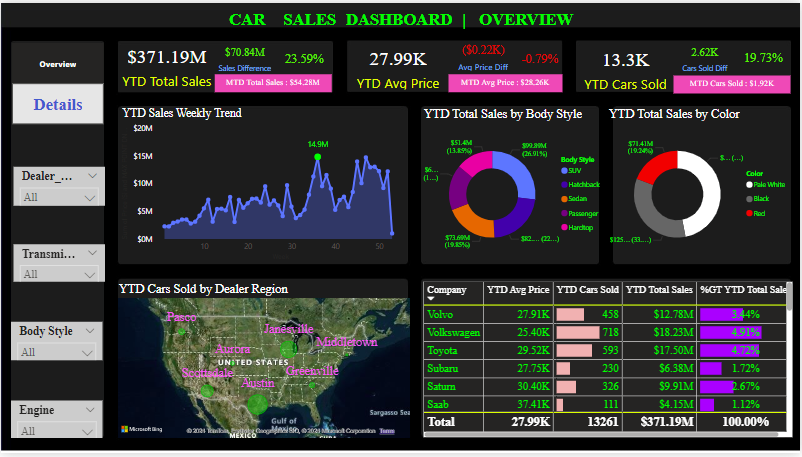

The dashboard page shown, as its layout file describes it:
{"tool":"powerbi","page":{"name":"Overview ","canvas":[1280,720],"ordinal":0},"visuals":[{"type":"card","fields":{"Values":["car_data.YTD Total Sales"]},"box":[187.5,58.8,155,83.8],"z":0},{"type":"card","fields":{"Values":["car_data.Sales Difference"]},"box":[342.5,63.8,96.2,50],"z":1000},{"type":"card","fields":{"Values":["car_data.YoY Sales Growth"]},"box":[438.8,65,93.8,48.8],"z":2000},{"type":"card","fields":{"Values":["car_data.MTD KPI"]},"box":[342.5,114,187,28.5],"z":3000},{"type":"card","fields":{"Values":["car_data.YTD Avg Price"]},"box":[556.2,60,158.8,83.8],"z":4000},{"type":"card","fields":{"Values":["car_data.Avg Price Diff"]},"box":[715.6,58.9,111.1,55.6],"z":5000},{"type":"card","fields":{"Values":["car_data.YoY Avg Price Growth"]},"box":[826.7,63.3,71.1,51.1],"z":6000},{"type":"card","fields":{"Values":["car_data.MTD Avg Price KPI"]},"box":[715.6,114.4,182.2,28.9],"z":7000},{"type":"card","fields":{"Values":["car_data.YTD Cars Sold"]},"box":[921.2,63.8,155,80],"z":8000},{"type":"card","fields":{"Values":["car_data.Cars Sold Diff"]},"box":[1076.2,63.8,100,50],"z":9000},{"type":"card","fields":{"Values":["car_data.YoY Car Sold Growth"]},"box":[1175.9,63.5,87.1,50.6],"z":10000},{"type":"card","fields":{"Values":["car_data.MTD Cars Sold KPI"]},"box":[1076.2,115,187.5,28.8],"z":11000},{"type":"areaChart","title":"YTD Sales Weekly Trend","fields":{"Category":["Calender Table.Week"],"Y":["Sum(car_data.Price ($))","car_data.MAX POINT ON AREA CHART"]},"box":[187.5,166.7,460,251.7],"z":12000},{"type":"donutChart","fields":{"Category":["car_data.Body Style"],"Y":["car_data.YTD Total Sales"]},"box":[675,166.4,291,254],"z":13000},{"type":"donutChart","fields":{"Y":["car_data.YTD Total Sales"],"Category":["car_data.Color"]},"box":[972.5,166.2,291.2,253.8],"z":14000},{"type":"map","title":"YTD Cars Sold by Dealer Region","fields":{"Size":["car_data.YTD Cars Sold"],"Category":["car_data.Dealer_Region"]},"box":[187.5,446.2,466.2,250],"z":15000},{"type":"tableEx","fields":{"Values":["car_data.Company","car_data.YTD Avg Price","car_data.YTD Cars Sold","car_data.YTD Total Sales","Divide(car_data.YTD Total Sales, ScopedEval(car_data.YTD Total Sales, []))"]},"box":[675,446.2,590,248.8],"z":16000},{"type":"textbox","box":[0,0,1280,41.2],"z":17000},{"type":"slicer","fields":{"Values":["car_data.Body Style"]},"box":[16.2,510,146.2,61.2],"z":18000},{"type":"slicer","fields":{"Values":["car_data.Dealer_Name"]},"box":[20,261.2,146.2,62.5],"z":19000},{"type":"slicer","fields":{"Values":["car_data.Transmission"]},"box":[20,386.2,146.2,60],"z":20000},{"type":"slicer","fields":{"Values":["car_data.Engine"]},"box":[16.7,635,146.7,60],"z":21000},{"type":"pageNavigator","box":[17.5,63.8,146.2,130],"z":21001}]}

Visuals, with their boxes in screenshot pixels (x1, y1, x2, y2), scaled from the page's 1280x720 canvas onto the 802x457 screenshot:
card - car_data.YTD Total Sales: [x1=117, y1=37, x2=215, y2=91]
card - car_data.Sales Difference: [x1=215, y1=40, x2=275, y2=72]
card - car_data.YoY Sales Growth: [x1=275, y1=41, x2=334, y2=72]
card - car_data.MTD KPI: [x1=215, y1=72, x2=332, y2=90]
card - car_data.YTD Avg Price: [x1=348, y1=38, x2=448, y2=91]
card - car_data.Avg Price Diff: [x1=448, y1=37, x2=518, y2=73]
card - car_data.YoY Avg Price Growth: [x1=518, y1=40, x2=563, y2=73]
card - car_data.MTD Avg Price KPI: [x1=448, y1=73, x2=563, y2=91]
card - car_data.YTD Cars Sold: [x1=577, y1=40, x2=674, y2=91]
card - car_data.Cars Sold Diff: [x1=674, y1=40, x2=737, y2=72]
card - car_data.YoY Car Sold Growth: [x1=737, y1=40, x2=791, y2=72]
card - car_data.MTD Cars Sold KPI: [x1=674, y1=73, x2=792, y2=91]
"YTD Sales Weekly Trend" areaChart: [x1=117, y1=106, x2=406, y2=266]
donutChart - car_data.Body Style x car_data.YTD Total Sales: [x1=423, y1=106, x2=605, y2=267]
donutChart - car_data.YTD Total Sales x car_data.Color: [x1=609, y1=105, x2=792, y2=267]
"YTD Cars Sold by Dealer Region" map: [x1=117, y1=283, x2=410, y2=442]
tableEx - car_data.Company x car_data.YTD Avg Price: [x1=423, y1=283, x2=793, y2=441]
textbox: [x1=0, y1=0, x2=801, y2=26]
slicer - car_data.Body Style: [x1=10, y1=324, x2=102, y2=363]
slicer - car_data.Dealer_Name: [x1=13, y1=166, x2=104, y2=205]
slicer - car_data.Transmission: [x1=13, y1=245, x2=104, y2=283]
slicer - car_data.Engine: [x1=10, y1=403, x2=102, y2=441]
pageNavigator: [x1=11, y1=40, x2=103, y2=123]
